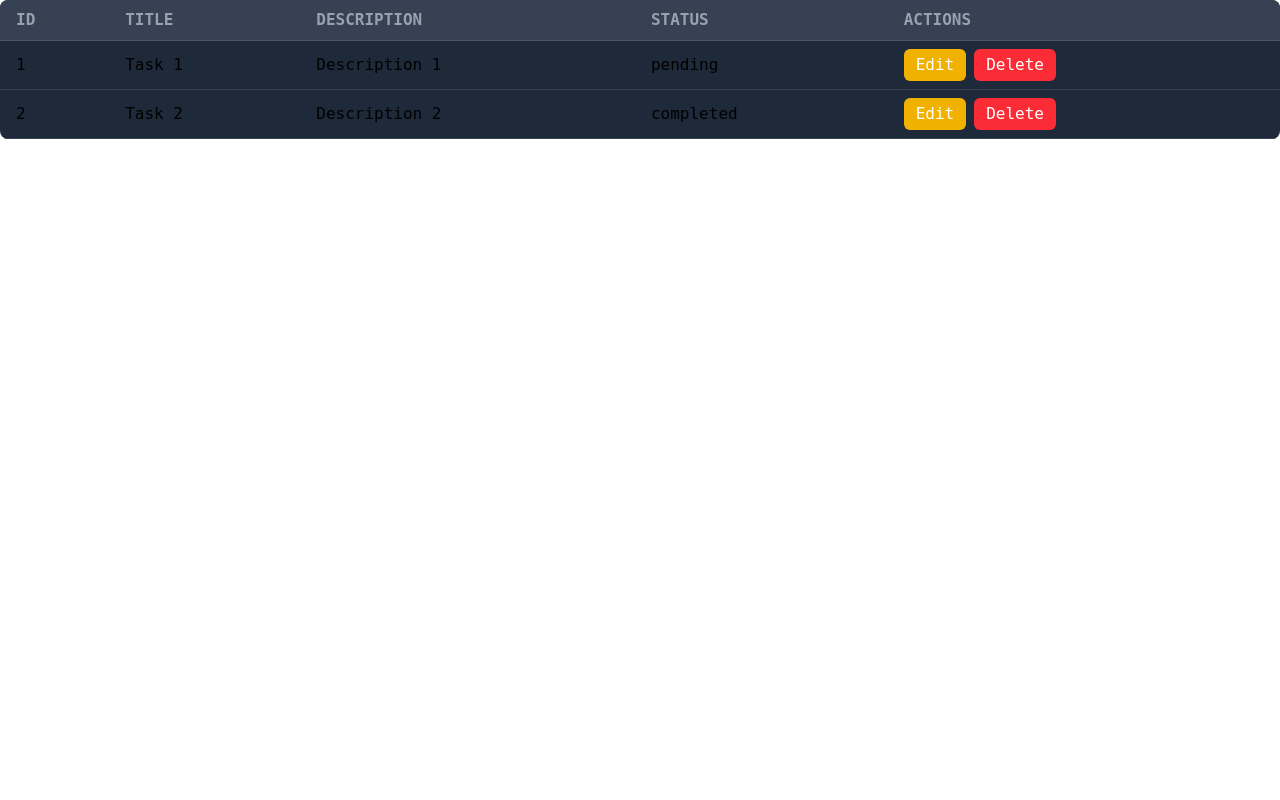
Test: TaskTable › should opens edit form when edit button is clicked
What coordinates should you click on to do the following:
click the button "Edit" in the row of "Task 1"
I would click on:
 (935, 65)
Its box is 904,49 -> 966,81.
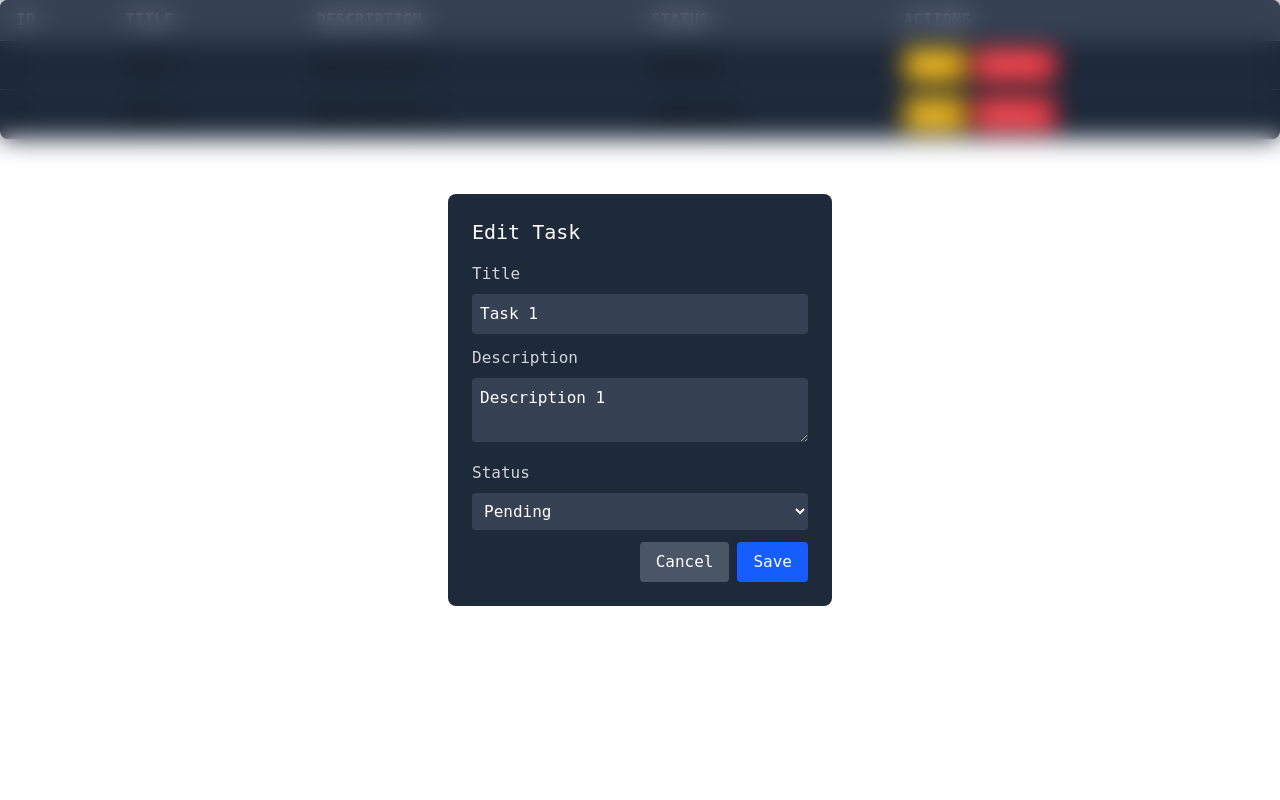
Check: the field labelled "Title" holds "Task 1", box 472,294 -> 808,334
Check: the text box labelled "Description" holds "Description 1", box 472,378 -> 808,442
Check: the dropdown labelled "Status" shows "Pending", box 472,493 -> 808,530
